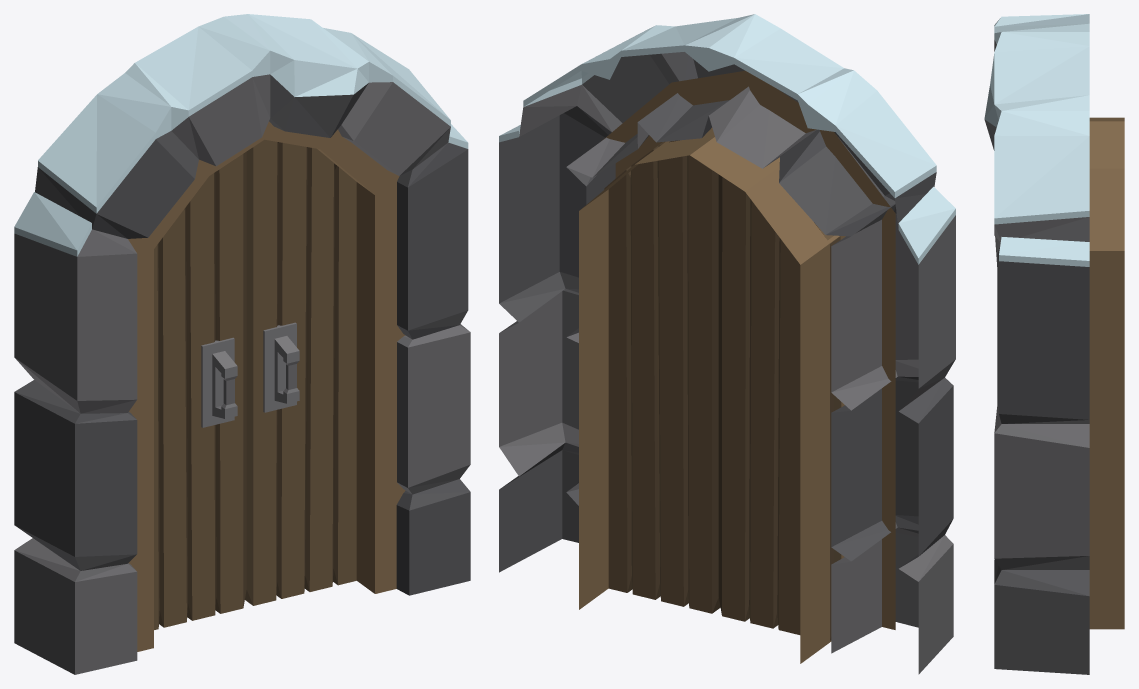
File: SM_Bld_Church_Door_01_Snow.gltf
3 views of the same model, side by side, from view 1: azimuth 30°, elevation 25°; view 2: azimuth 150°, elevation 25°; view 3: azimuth 270°, elevation 25° (orthographic). The views are drawn at different scales.
Visible parts, largest first — view 1: SM_Bld_Church_Door_01_Snow; view 2: SM_Bld_Church_Door_01_Snow; view 3: SM_Bld_Church_Door_01_Snow.
Boxes of the visible parts, x1,y1,x2,y2 form: SM_Bld_Church_Door_01_Snow: [14, 14, 470, 674]; SM_Bld_Church_Door_01_Snow: [499, 14, 955, 674]; SM_Bld_Church_Door_01_Snow: [984, 14, 1124, 674].
Bounding box in the file's own units: 2.11 × 2.76 × 0.6427.
Materials: 1 (1 with a texture image).
